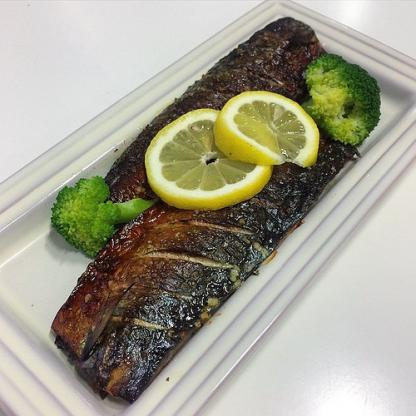Peixe: (83, 209, 283, 391), (207, 0, 342, 90)
